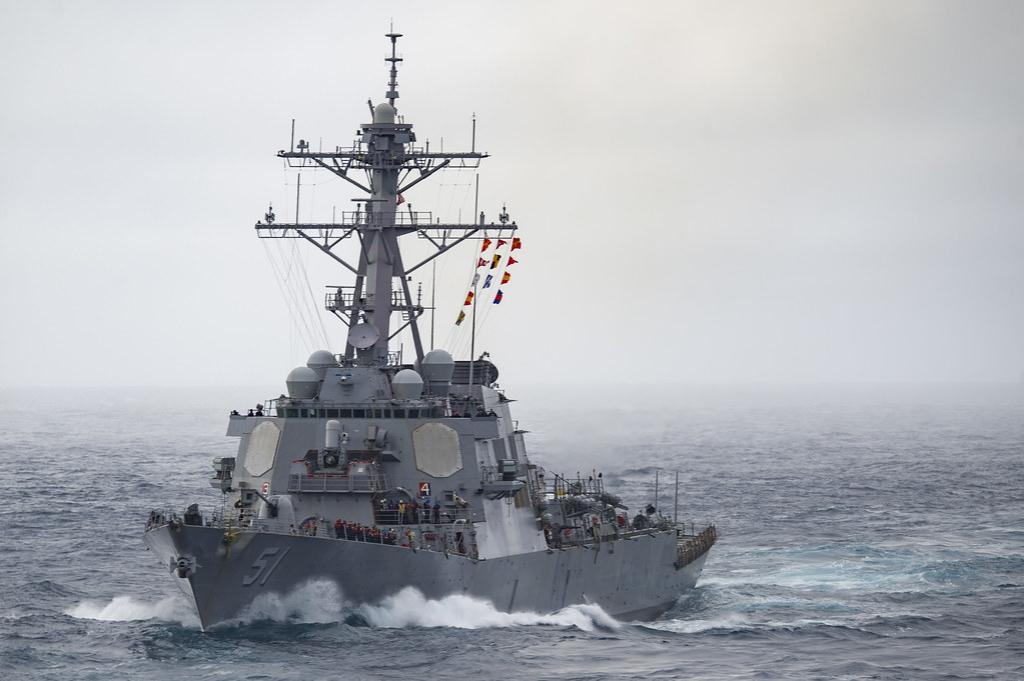Warship: (138, 18, 724, 636)
